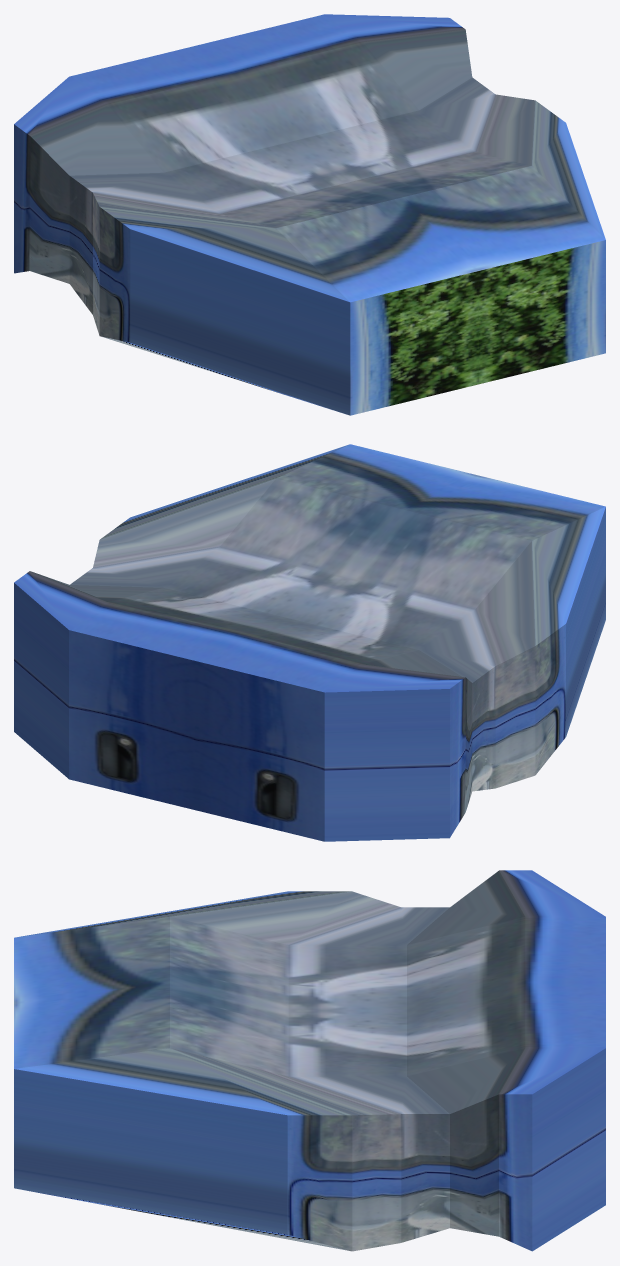
3 renders of one model, top to bottom at view 1: azimuth 30°, elevation 25°; view 2: azimuth 150°, elevation 25°; view 3: azimuth 270°, elevation 25°, orthographic. The views are drawn at different scales.
Parts seen in each view (by area): view 1: Body-2.003_Cube.035; view 2: Body-2.003_Cube.035; view 3: Body-2.003_Cube.035.
Part boxes in pixels (<box>): Body-2.003_Cube.035: <box>14,14,605,415</box>; Body-2.003_Cube.035: <box>14,444,605,841</box>; Body-2.003_Cube.035: <box>14,870,605,1251</box>.
Bounding box in the file's own units: 10.91 × 3.57 × 12.19.
